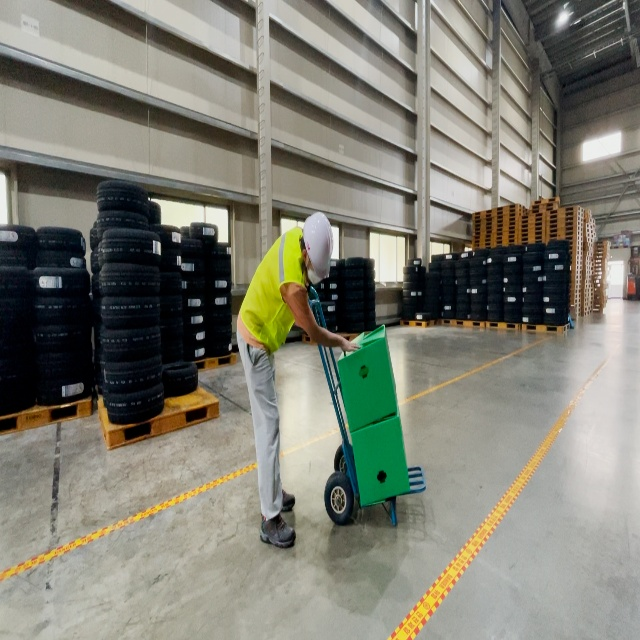Box: (349, 392, 411, 508), (336, 322, 398, 434)
Worker: (236, 210, 362, 550)
